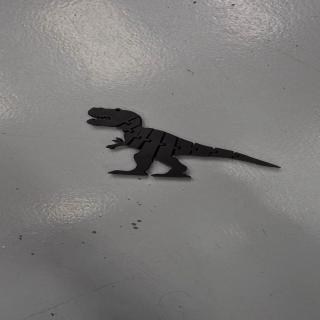dino: (86, 107, 282, 178)
